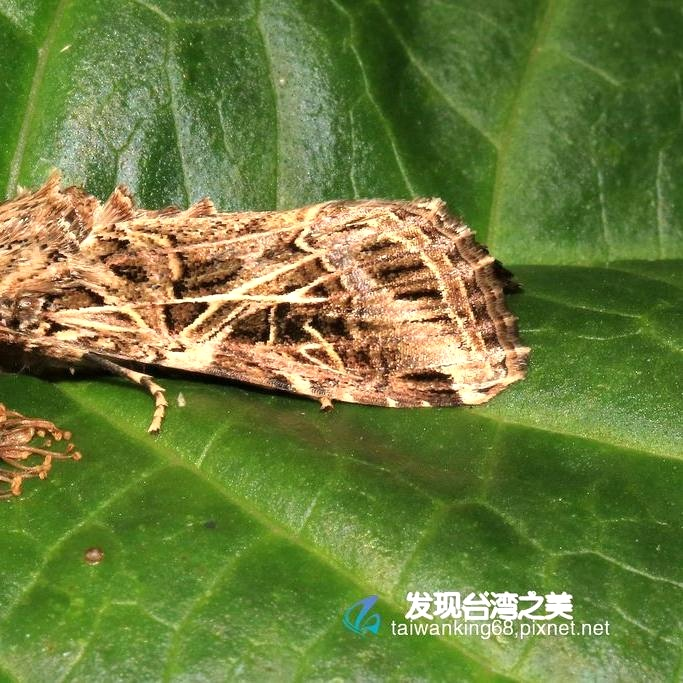Spodoptera litura: (1, 165, 531, 436)
